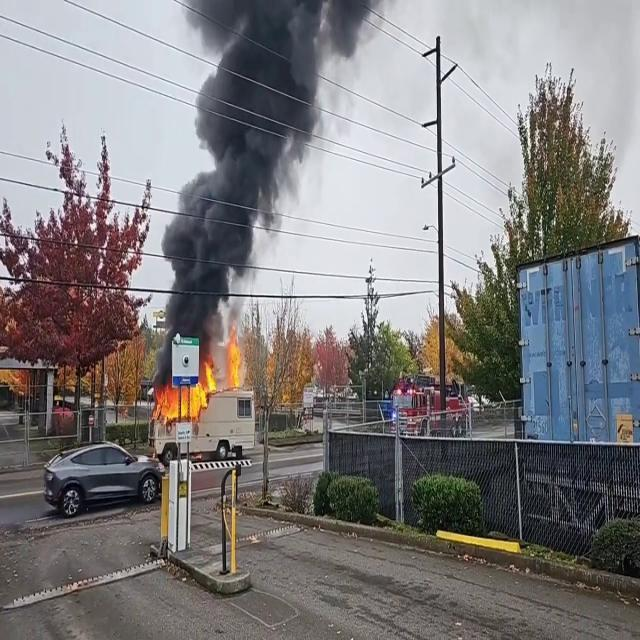Fire: (152, 358, 218, 422), (227, 328, 245, 391)
Smoke: (158, 0, 348, 345)
